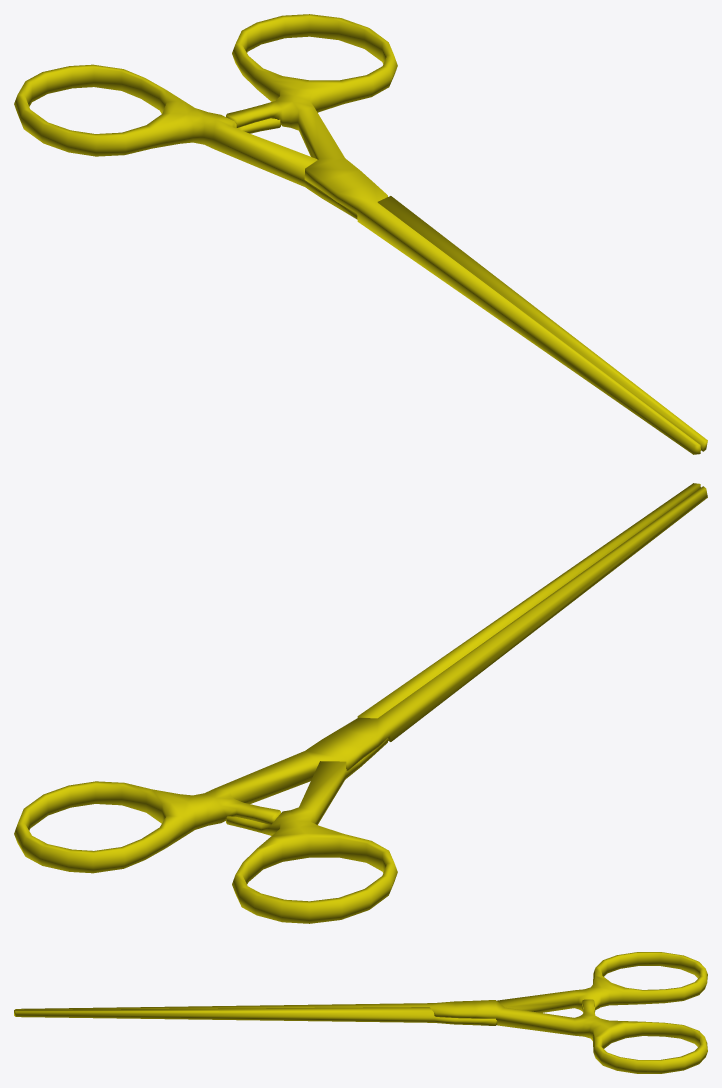
Rendered from scissorsV01.fbx.
3 views of the same model, one above another, from view 1: azimuth 30°, elevation 25°; view 2: azimuth 150°, elevation 25°; view 3: azimuth 270°, elevation 25° (orthographic). The views are drawn at different scales.
Visible parts, largest first — view 1: polySurface15; view 2: polySurface15; view 3: polySurface15.
Boxes of the visible parts, left/top/right/bottom form: polySurface15: left=14, top=14, right=707, bottom=454; polySurface15: left=14, top=483, right=707, bottom=923; polySurface15: left=14, top=952, right=707, bottom=1073.
Bounding box in the file's own units: 5.59 × 0.362 × 14.91.
